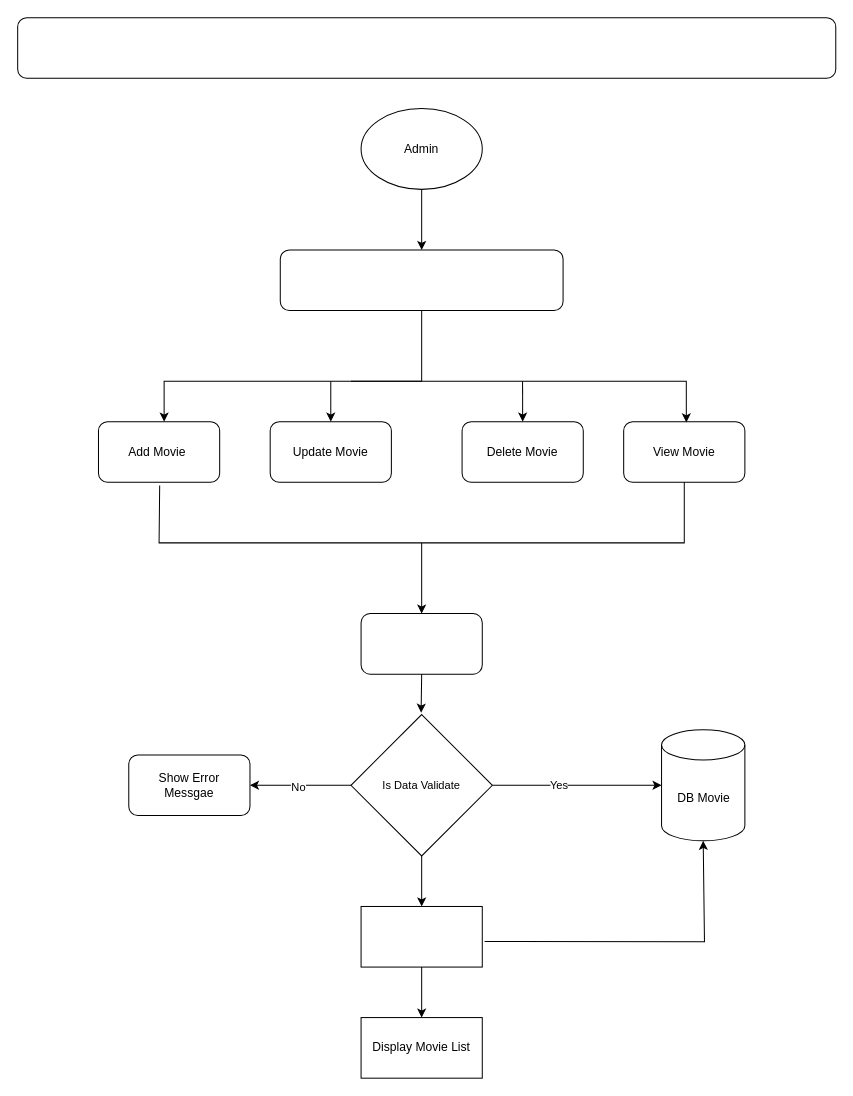
Some shapes in this 853 by 1096 pixel diagram are drawn without their labels. Each missing label, with the centre of its shape:
Enter Movie Detail: point (421, 643)
MOVIE MANAGEMENTS: point (426, 47)
Open Movie Management Page: point (421, 280)
Save Movie to Database: point (421, 936)
